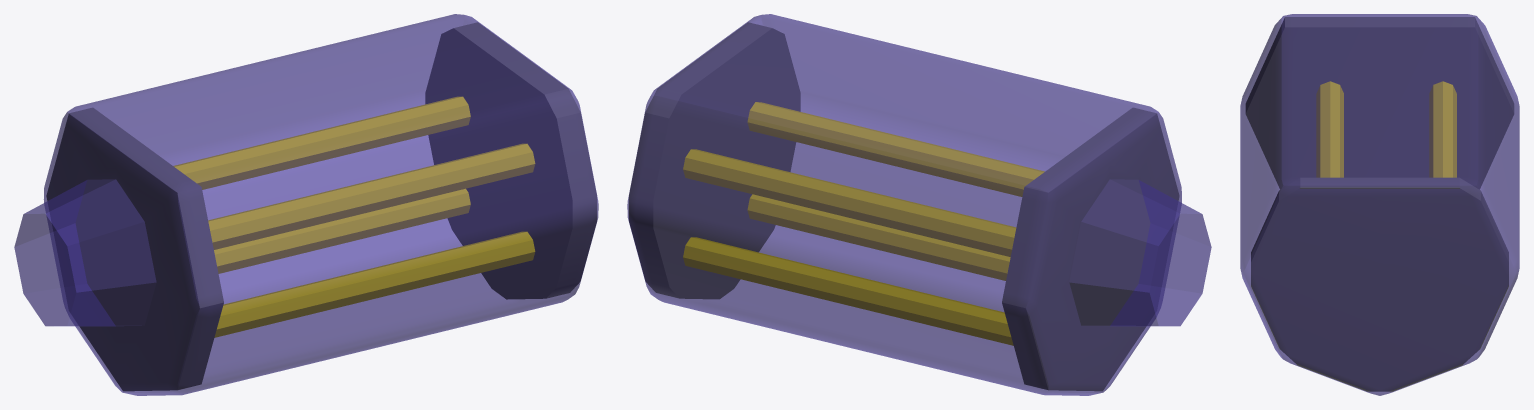
File: trap_exploding.fbx
The picture shows the model from 3 angles, left to right: view 1: azimuth 30°, elevation 25°; view 2: azimuth 150°, elevation 25°; view 3: azimuth 270°, elevation 25°; orthographic projection. The views are drawn at different scales.
Parts seen in each view (by area): view 1: steklo, stenka2, stenka1, lamps3, lamps2, lamps4, lamps1; view 2: steklo, stenka2, stenka1, lamps4, lamps1, lamps3, lamps2; view 3: steklo, stenka1, stenka2, lamps3, lamps4.
Boxes of the visible parts, x1,y1,x2,y2 form: steklo: [14, 14, 598, 395]; stenka2: [46, 107, 223, 391]; stenka1: [425, 22, 596, 299]; lamps3: [208, 143, 535, 249]; lamps2: [214, 231, 535, 337]; lamps4: [173, 96, 470, 189]; lamps1: [214, 189, 470, 273]; steklo: [627, 14, 1211, 395]; stenka2: [1002, 107, 1179, 391]; stenka1: [629, 22, 800, 299]; lamps4: [683, 149, 1016, 256]; lamps1: [683, 237, 1013, 345]; lamps3: [747, 102, 1044, 196]; lamps2: [747, 194, 1010, 280]; steklo: [1240, 14, 1519, 395]; stenka1: [1251, 177, 1508, 391]; stenka2: [1245, 17, 1514, 189]; lamps3: [1316, 81, 1343, 177]; lamps4: [1429, 81, 1456, 177].
Size of the model in its own units: 97.5 by 48.29 by 56.03.
